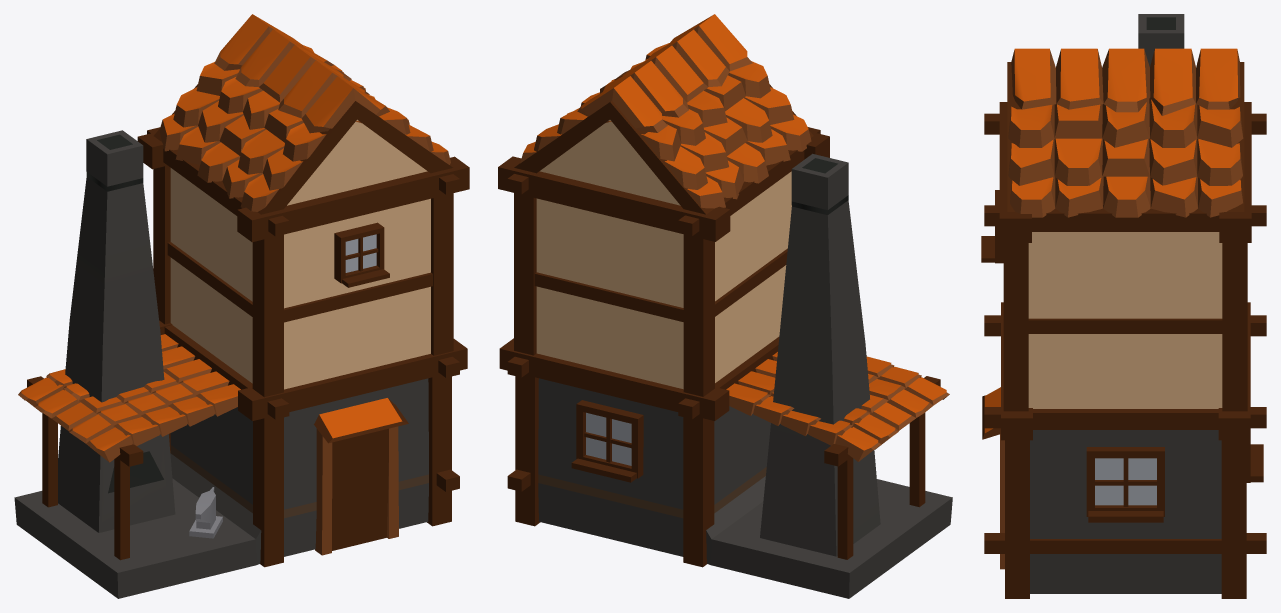
File: SM_House_T4.fbx
3 renders of one model, left to right at view 1: azimuth 30°, elevation 25°; view 2: azimuth 150°, elevation 25°; view 3: azimuth 270°, elevation 25°, orthographic. The views are drawn at different scales.
Visible parts, largest first — view 1: SM_House_T4; view 2: SM_House_T4; view 3: SM_House_T4.
Boxes of the visible parts, left/top/right/bottom form: SM_House_T4: left=14, top=14, right=469, bottom=598; SM_House_T4: left=498, top=14, right=952, bottom=598; SM_House_T4: left=981, top=14, right=1266, bottom=598.
Size of the model in its own units: 105 by 128 by 66.3.
